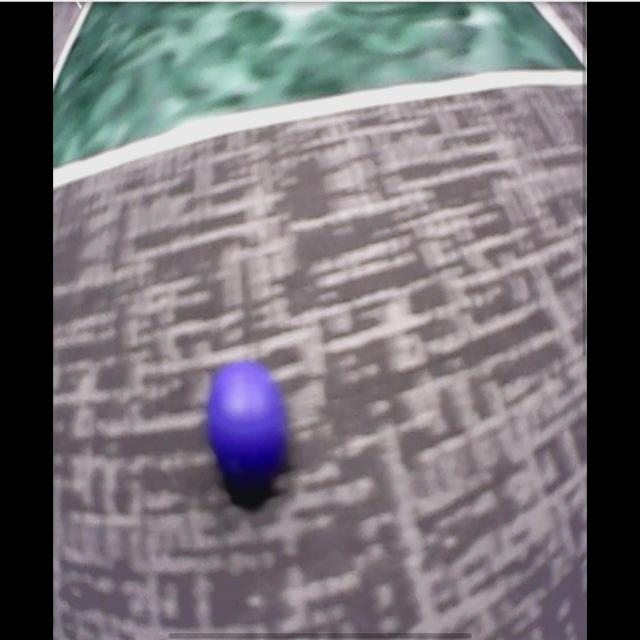ball: (210, 363, 282, 476)
